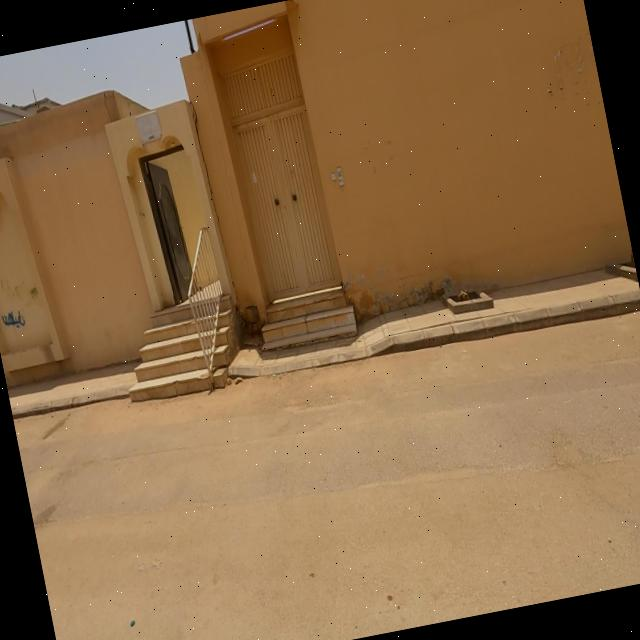Graffiti: (2, 309, 30, 332)
